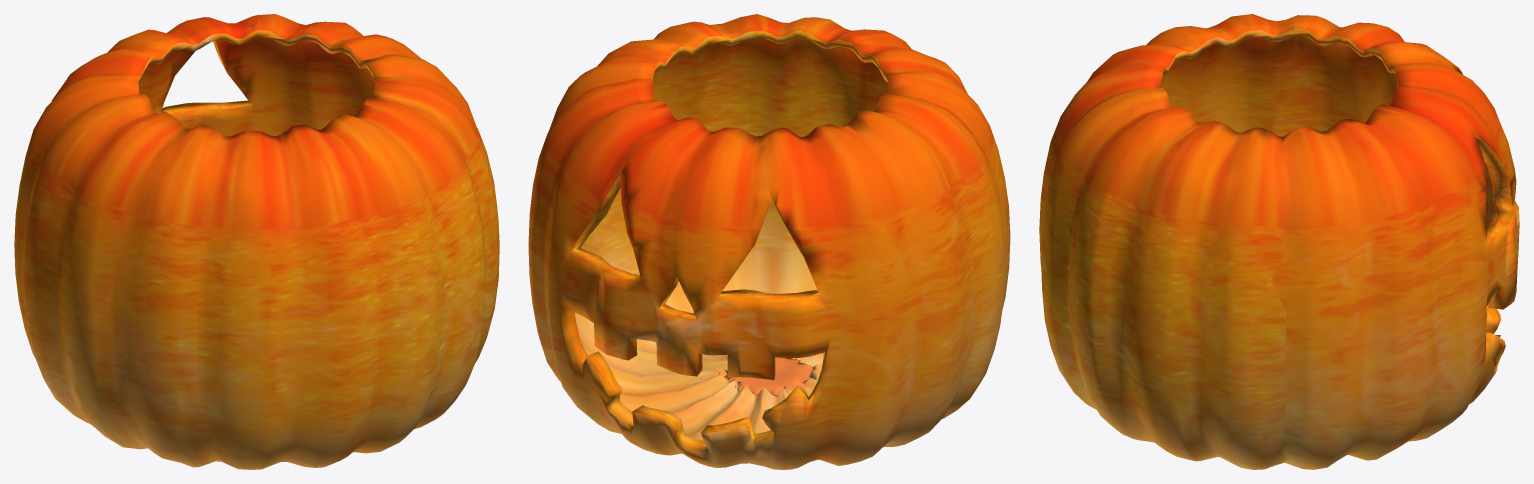
Rendered from pumpkined.fbx.
3 views of the same model, side by side, from view 1: azimuth 30°, elevation 25°; view 2: azimuth 150°, elevation 25°; view 3: azimuth 270°, elevation 25° (orthographic).
Visible parts, largest first — view 1: Connect; view 2: Connect; view 3: Connect.
Boxes of the visible parts, box(x1,y1,x2,y2) form: Connect: box(14, 14, 499, 469); Connect: box(528, 14, 1010, 469); Connect: box(1039, 14, 1519, 469).
Size of the model in its own units: 1.97 by 1.48 by 1.97.
